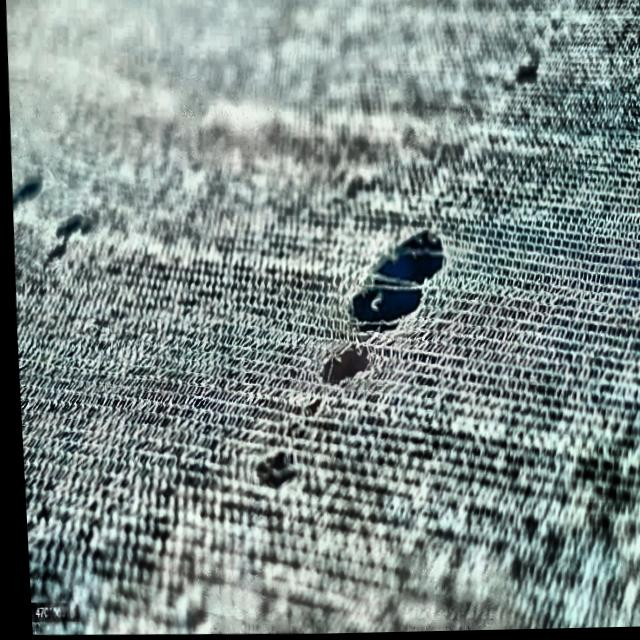Hole: (308, 210, 461, 396), (242, 437, 302, 506), (289, 394, 324, 437)
